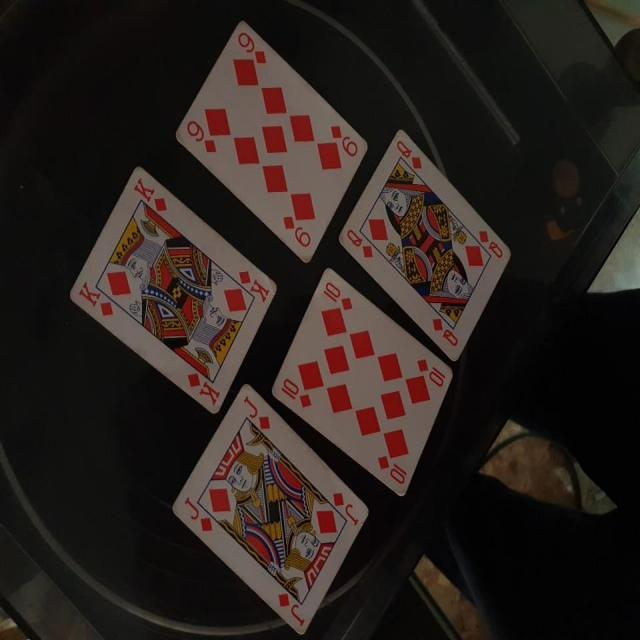10 Diamonds: (268, 264, 453, 495)
9 Diamonds: (170, 20, 367, 264)
J Diamonds: (169, 381, 368, 634)
K Diamonds: (68, 167, 279, 417)
Q Diamonds: (338, 125, 512, 362)
